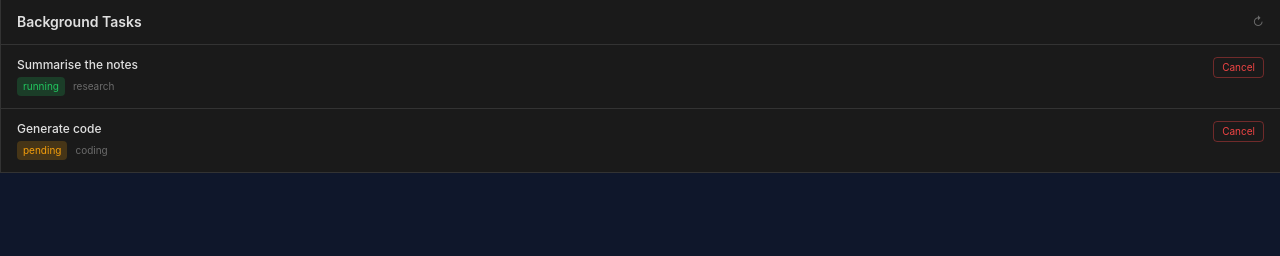
TaskPanel › expands task details on toggle click
Check: the element with test id "task-row-task-1" is shown, box [1,45,1279,109]
Click the button with test id "task-toggle-task-1" at x=78, y=64, box [17,57,1205,96]
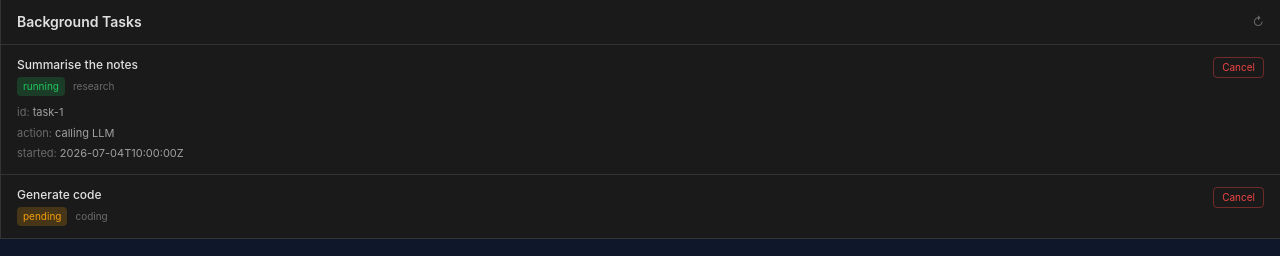
Check: the element with test id "task-details-task-1" is shown, box [17,105,184,160]
Check: the text with test id "task-id-task-1" reads "task-1", box [33,105,63,119]
